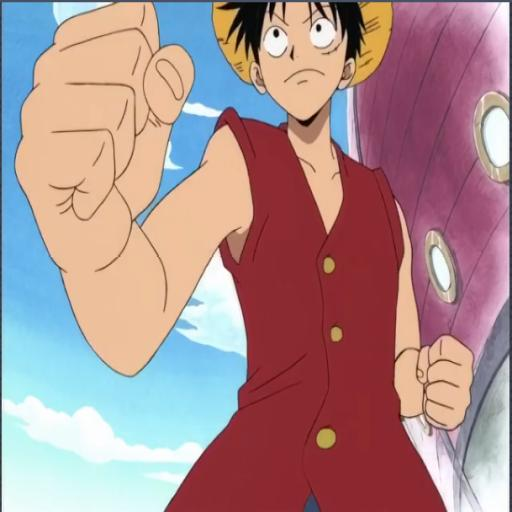Luffy: (14, 0, 478, 512)
